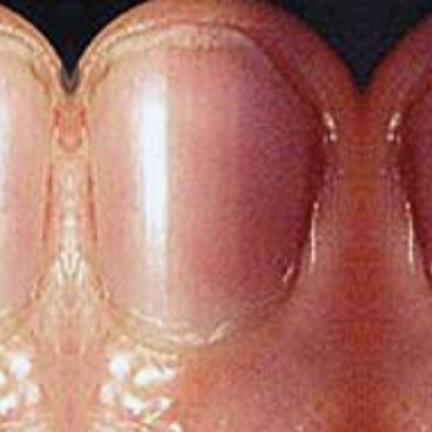Nail: (86, 21, 318, 341), (0, 29, 52, 326), (405, 92, 432, 287)
